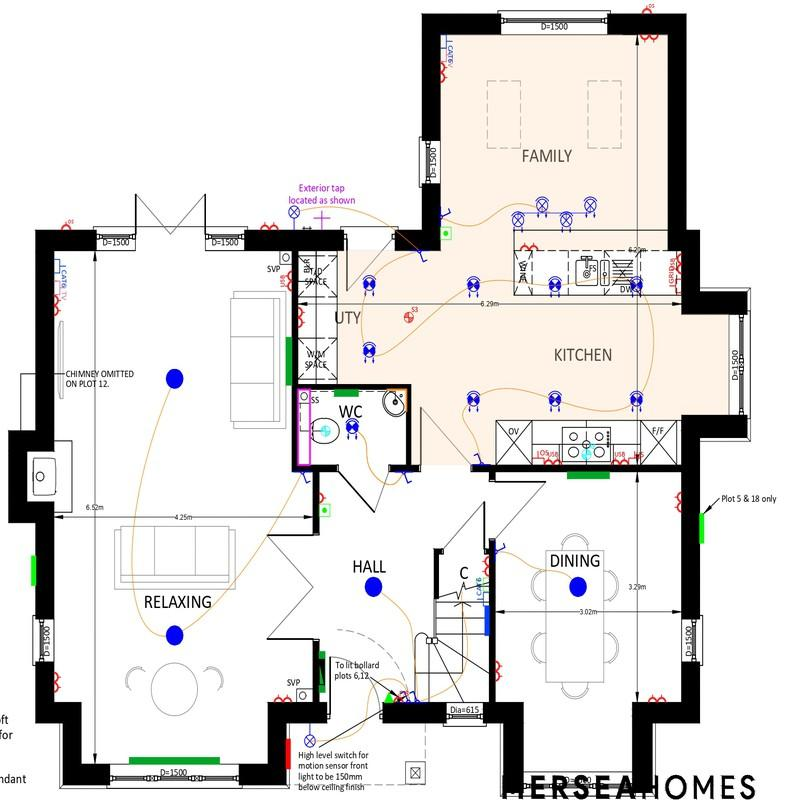BT Entry Point: (384, 693, 393, 702)
Cat 6 Data Socket: (475, 578, 489, 606), (54, 259, 67, 288), (441, 34, 453, 62)
Ceiling Mounted Continuous Extract FanWith Boost Mode Activated By Light Switch: (320, 425, 330, 436)
Ceiling Mounted Continuous Extract FanWith Local Boost Switch: (404, 306, 418, 323)
Co-Ax TV Socket: (440, 48, 453, 67), (54, 281, 66, 300)
Consumer Unit: (320, 659, 325, 686)
Double Socket: (480, 556, 489, 576), (520, 242, 539, 251), (640, 34, 659, 43), (648, 693, 667, 702), (274, 693, 293, 702), (259, 221, 278, 230), (54, 296, 62, 316), (495, 660, 502, 682), (674, 492, 681, 513), (298, 307, 305, 328), (441, 63, 448, 83), (54, 673, 61, 692)
Electric Meter Box: (286, 738, 291, 769)
External Wall Light: (304, 723, 316, 747), (288, 205, 299, 229)
Gas Meter Box: (699, 513, 704, 544), (31, 556, 36, 586)
Grid Switch: (668, 268, 681, 293)
Hob Switch: (628, 451, 644, 465)
Light Switch: (416, 250, 429, 262), (400, 690, 411, 702), (401, 472, 412, 484), (301, 472, 311, 485), (441, 208, 452, 219), (495, 543, 506, 554), (473, 452, 483, 464), (410, 691, 420, 702)
Low Energy Downlighter: (362, 341, 376, 363), (466, 390, 480, 412), (548, 390, 562, 412), (363, 274, 376, 297), (548, 276, 562, 297), (629, 276, 643, 297), (467, 276, 480, 298), (346, 417, 358, 440), (630, 391, 643, 412)
Low Energy Pendant Light: (569, 576, 587, 597), (166, 368, 184, 389), (364, 577, 382, 597), (166, 625, 183, 646)
Outside Socket: (393, 691, 410, 702), (61, 219, 74, 230), (642, 3, 654, 13)
Outside Tap: (313, 209, 330, 229)
Oven Switch: (532, 450, 548, 464)
Programmable Room Thermostat: (440, 226, 452, 240), (319, 503, 331, 516)
Radiator: (129, 757, 220, 765), (567, 472, 610, 479), (319, 651, 326, 693), (285, 337, 291, 385), (334, 389, 358, 396)
Recirculating Extractor Fan: (582, 442, 595, 459)
Single Socket: (319, 492, 326, 503)
Telephone Socket: (477, 577, 489, 592)
Track Light: (512, 196, 598, 233)
USB Double Socket: (279, 270, 292, 291), (545, 451, 562, 465), (670, 254, 681, 274), (611, 452, 628, 464)
Underfloor Heating Manifold: (483, 606, 489, 636)
